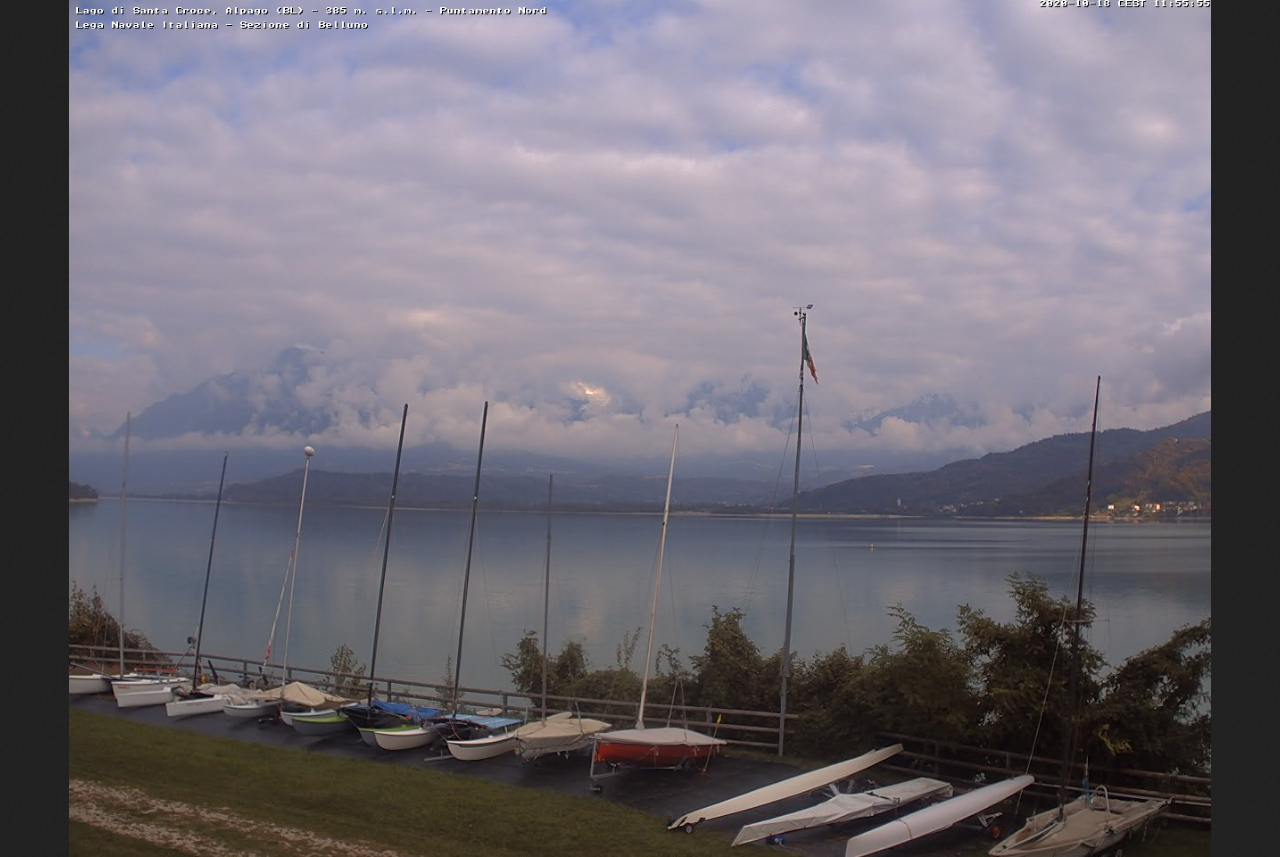no: (798, 319, 821, 383)
